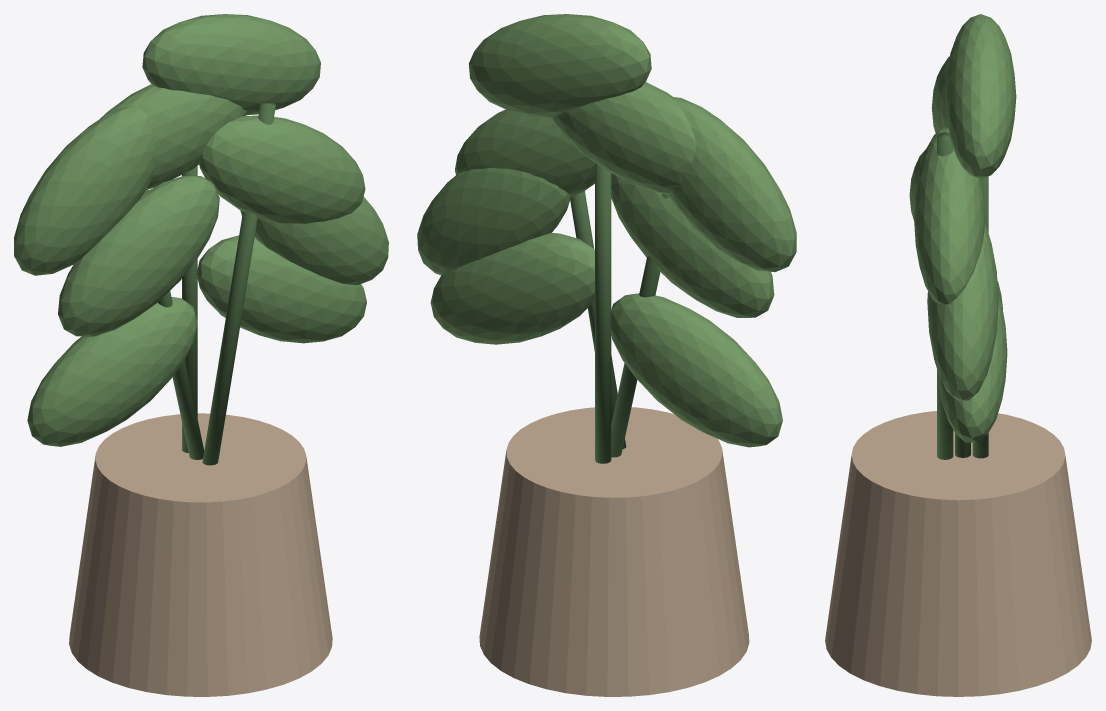
Rendered from project-sculptural-planter.glb.
3 views of the same model, side by side, from view 1: azimuth 30°, elevation 25°; view 2: azimuth 150°, elevation 25°; view 3: azimuth 270°, elevation 25° (orthographic). The views are drawn at different scales.
Parts seen in each view (by area): view 1: tapered-planter, leaf-3, leaf-7, leaf-1, leaf-4, leaf-6, leaf-2, leaf-8, leaf-5, stem-2, stem-1, stem-3; view 2: tapered-planter, leaf-1, leaf-6, leaf-2, leaf-7, leaf-8, leaf-5, leaf-3, leaf-4, stem-3, stem-1, stem-2; view 3: tapered-planter, leaf-6, leaf-4, leaf-8, leaf-2, stem-2, leaf-7, stem-3.
Part boxes in pixels (x1,y1,x2,y2): tapered-planter: (69,413,332,696); leaf-3: (58,176,219,336); leaf-7: (14,106,154,275); leaf-1: (27,297,197,446); leaf-4: (199,115,365,223); leaf-6: (142,14,320,115); leaf-2: (197,235,366,343); leaf-8: (240,197,388,285); leaf-5: (100,84,246,189); stem-2: (202,101,275,465); stem-1: (144,188,204,459); stem-3: (182,166,197,452); tapered-planter: (479,407,749,696); leaf-1: (610,293,782,447); leaf-6: (469,14,651,117); leaf-2: (430,233,594,344); leaf-7: (668,97,796,271); leaf-8: (417,168,570,275); leaf-5: (551,82,695,194); leaf-3: (611,173,774,317); leaf-4: (455,109,594,196); stem-3: (595,163,611,463); stem-1: (611,193,669,457); stem-2: (570,191,626,448); tapered-planter: (825,411,1091,696); leaf-6: (945,14,1016,178); leaf-4: (914,127,985,304); leaf-8: (927,224,998,400); leaf-2: (937,293,1007,442); stem-2: (937,132,953,459); leaf-7: (931,56,949,133); stem-3: (972,176,988,458).
Size of the model in its own units: 0.9692 by 1.54 by 0.5996.
